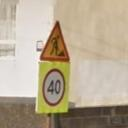speed_limit_40: (42, 68, 66, 106)
